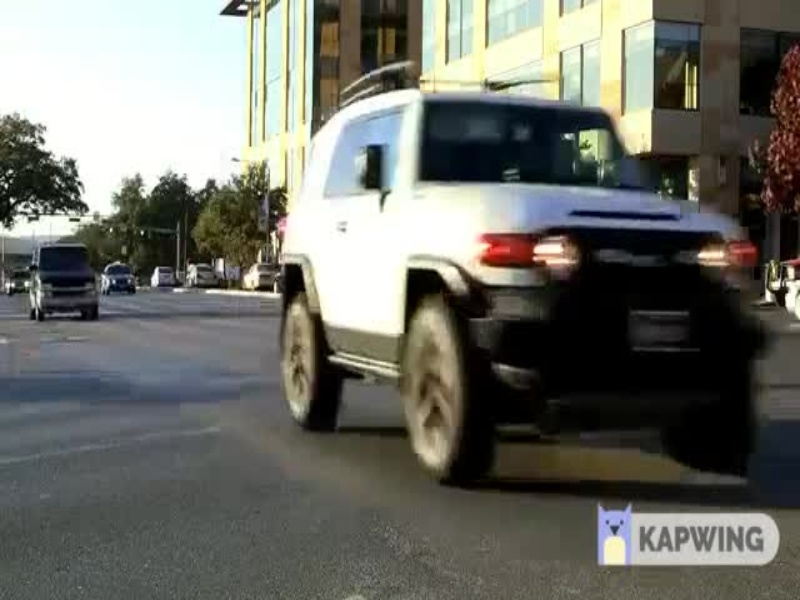suv: (261, 65, 788, 502)
van: (23, 235, 106, 322)
